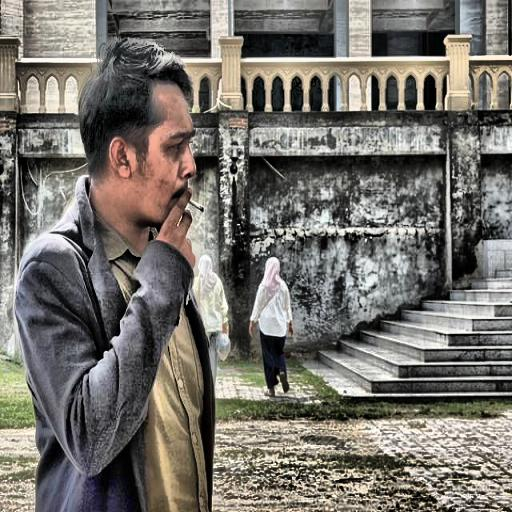Merokok: (190, 201, 203, 210)
Rokok: (90, 86, 198, 266)
